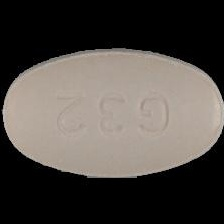50090-1583: (0, 0, 224, 224)
